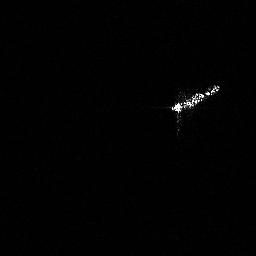ship: (171, 84, 220, 112)
